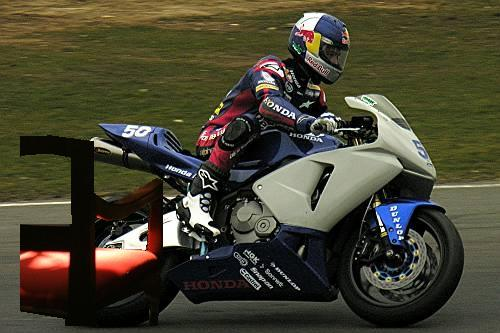tampered: (21, 136, 163, 326)
